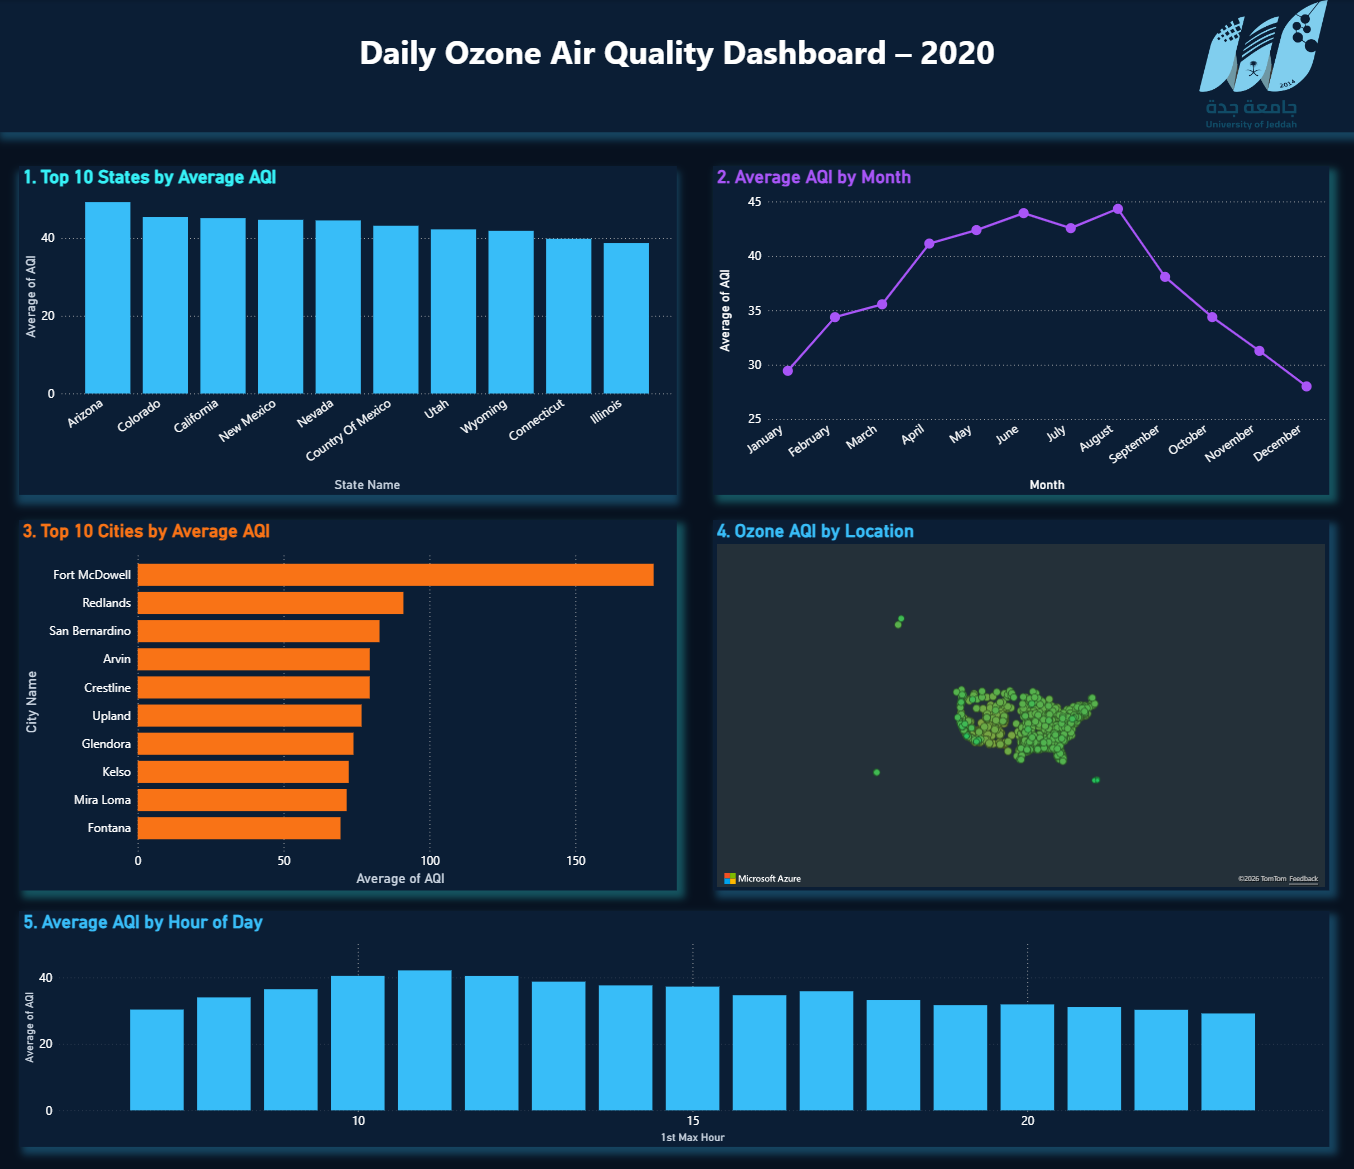

The dashboard page shown, as its layout file describes it:
{"tool":"powerbi","page":{"name":"Ozone_Air_Quality_Analysis","canvas":[1800,1550],"ordinal":0},"visuals":[{"type":"shape","box":[0,0,1499.3,175],"z":0},{"type":"textbox","box":[0,0,1801.1,174.6],"z":1000},{"type":"clusteredColumnChart","title":"1. Top 10 States by Average AQI","fields":{"Category":["daily_ozone_2020_.State Name"],"Y":["Avg(daily_ozone_2020_.AQI)"]},"box":[30.8,219.2,869.8,434.9],"z":2000},{"type":"lineChart","title":"2. Average AQI by Month","fields":{"Category":["daily_ozone_2020_.Month"],"Y":["Avg(daily_ozone_2020_.AQI)"]},"box":[948.5,219.2,815,434.9],"z":3000},{"type":"clusteredBarChart","title":"3. Top 10 Cities by Average AQI","fields":{"Category":["daily_ozone_2020_.City Name"],"Y":["Avg(daily_ozone_2020_.AQI)"]},"box":[30.8,688.3,869.8,489.7],"z":4000},{"type":"image","box":[1551.2,0,250,174.6],"z":5000},{"type":"azureMap","title":"4. Ozone AQI by Location","fields":{"Size":["Avg(daily_ozone_2020_.AQI)"],"X":["daily_ozone_2020_.Longitude"],"Y":["daily_ozone_2020_.Latitude"]},"box":[948.5,688.3,815,489.7],"z":6000},{"type":"clusteredColumnChart","title":"5. Average AQI by Hour of Day","fields":{"Category":["daily_ozone_2020_.1st Max Hour"],"Y":["Avg(daily_ozone_2020_.AQI)"]},"box":[30.8,1205.3,1732.7,311.6],"z":7000}]}

Visuals, with their boxes in screenshot pixels (x1, y1, x2, y2), scaled from the page's 1800x1550 canvas onto the 1354x1169 screenshot:
shape: (0, 0, 1128, 132)
textbox: (0, 0, 1353, 132)
"1. Top 10 States by Average AQI" clusteredColumnChart: (23, 165, 677, 493)
"2. Average AQI by Month" lineChart: (713, 165, 1327, 493)
"3. Top 10 Cities by Average AQI" clusteredBarChart: (23, 519, 677, 888)
image: (1167, 0, 1353, 132)
"4. Ozone AQI by Location" azureMap: (713, 519, 1327, 888)
"5. Average AQI by Hour of Day" clusteredColumnChart: (23, 909, 1327, 1144)
